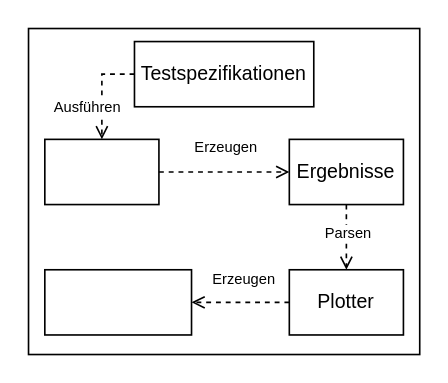
This 448x383 diagram has some shape labels left out. Each missing label, with the centre of its shape:
"Executor" belongs at (101,171).
"Performance Mertiken" belongs at (117,301).
